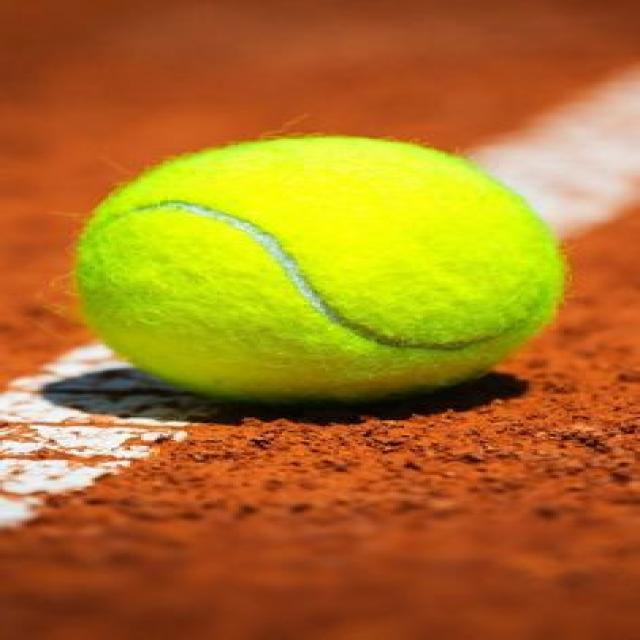tennis: (80, 129, 564, 407)
